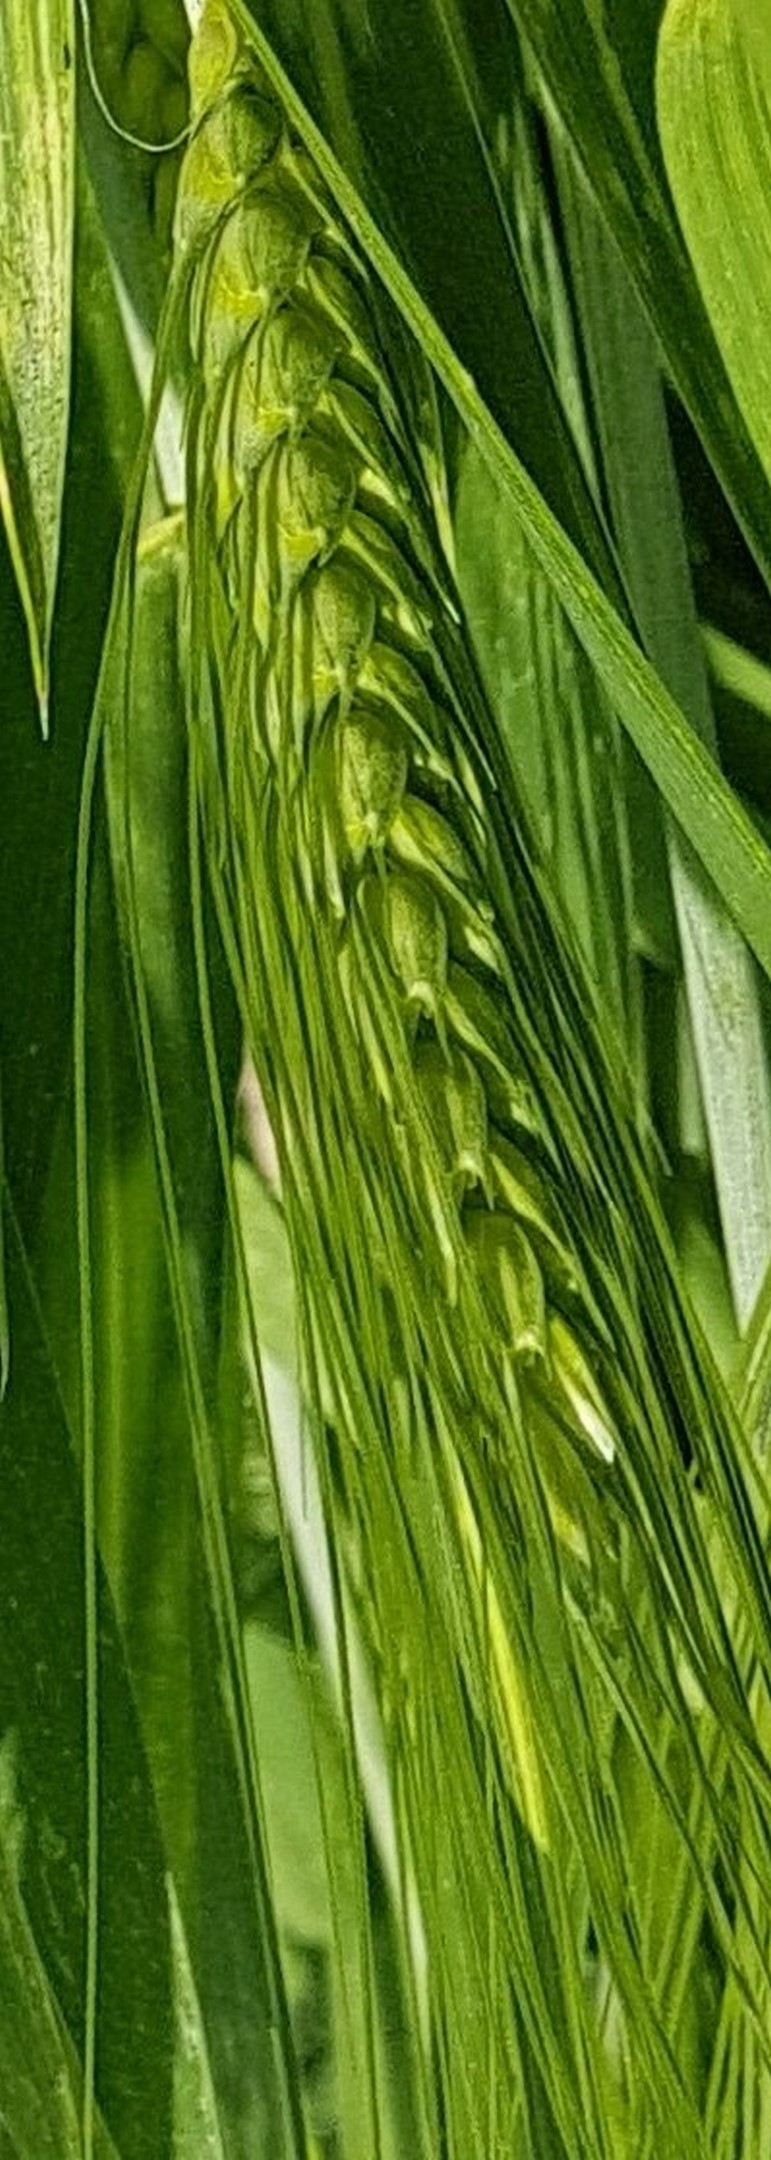Healthy Wheat: (129, 83, 754, 1497)
